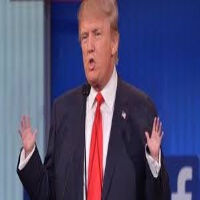ring: (157, 118, 163, 139), (19, 121, 25, 136)
